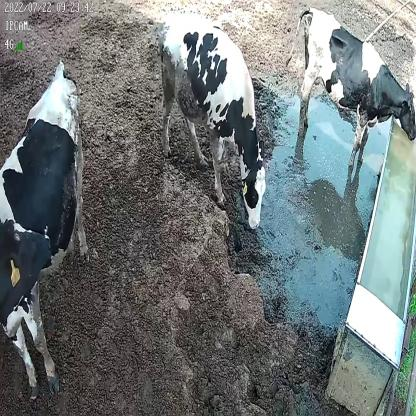cow: (1, 60, 92, 397), (160, 16, 267, 237), (287, 10, 416, 171)
